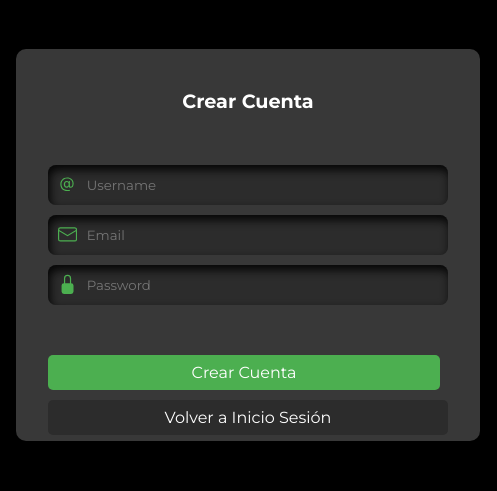
displays error when signup fails
Type "user" into the field with test id "username-input". click: (262, 185)
box: [85,176,438,194]
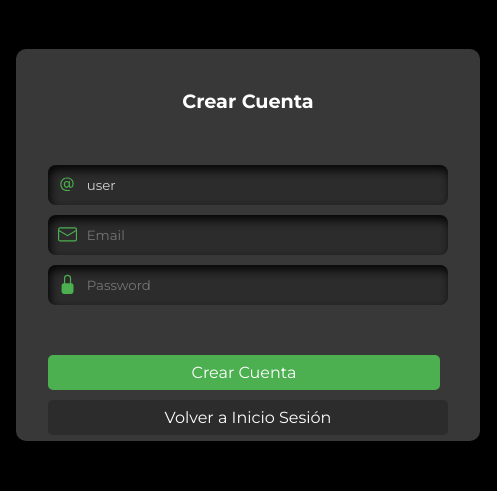
Type "user@email.com" into the field with test id "email-input". click: (262, 235)
box: [85,226,438,244]
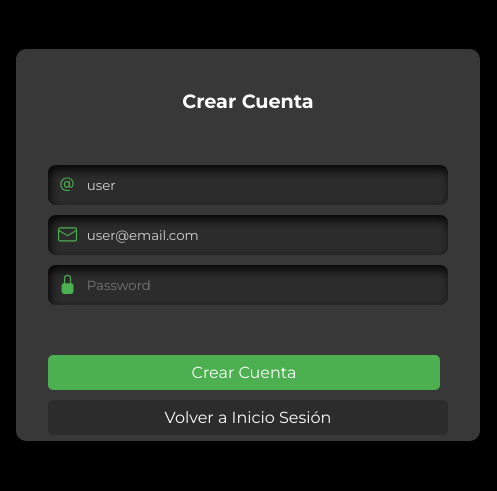
Type "pass" into the password field with test id "password-input". click: (262, 285)
box: [85,276,438,294]
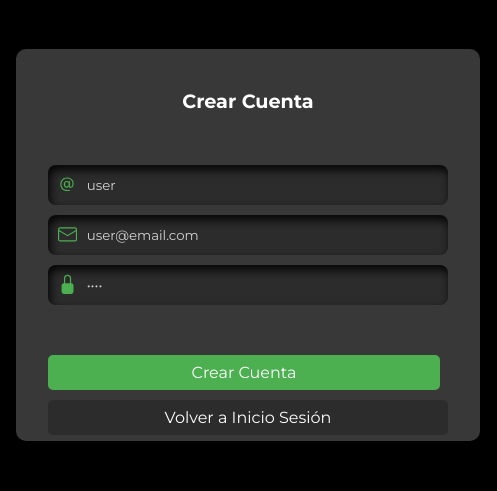
Click the button with test id "signup-button". click: (244, 372)
box: [48,355,440,390]
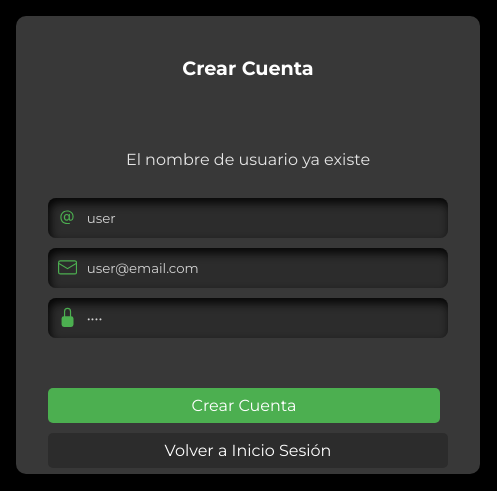
Now the text "El nombre de usuario ya existe" is shown, box [126,150,370,169]
